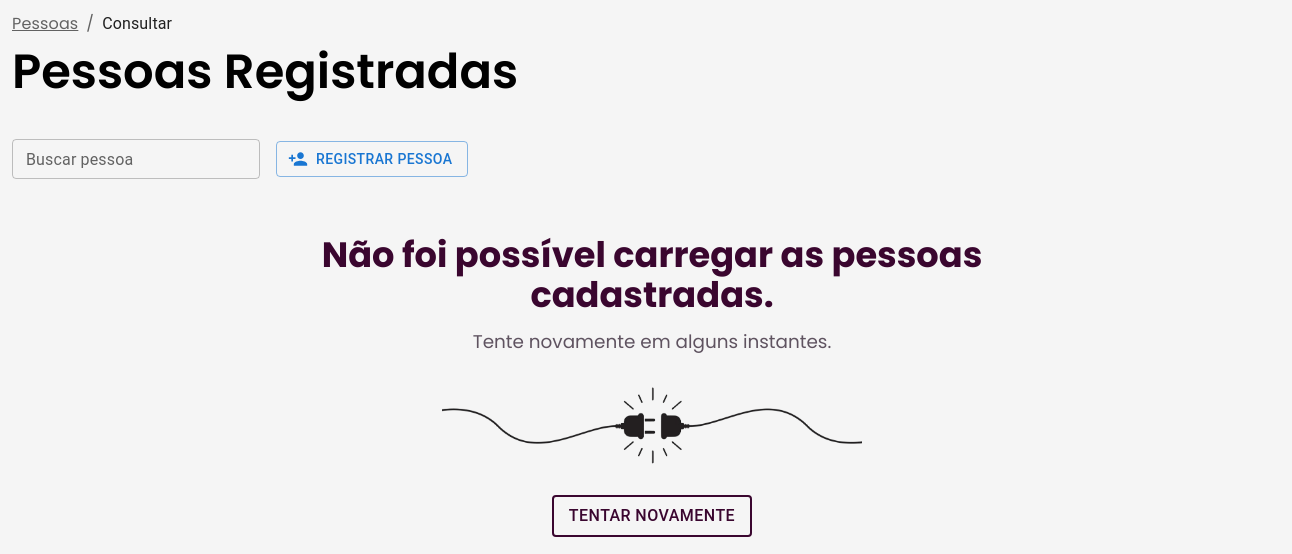
PeopleConsultPage › permite tentar novamente depois de erro de conexão
expect the heading "Não foi possível carregar as pessoas cadastradas." is shown: met, box [312, 235, 992, 316]
expect the text "Tente novamente em alguns instantes." is shown: met, box [473, 328, 831, 356]
Click the button "Tentar novamente": (652, 516) [552, 495, 752, 537]
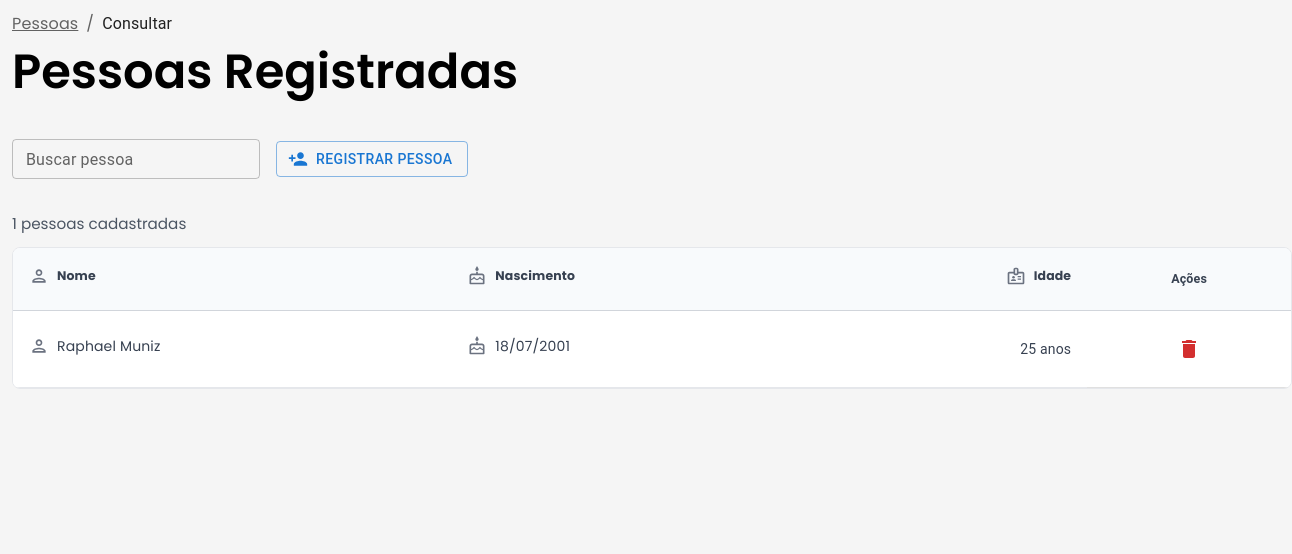
expect the text "Raphael Muniz" is shown: met, box [57, 336, 160, 356]
